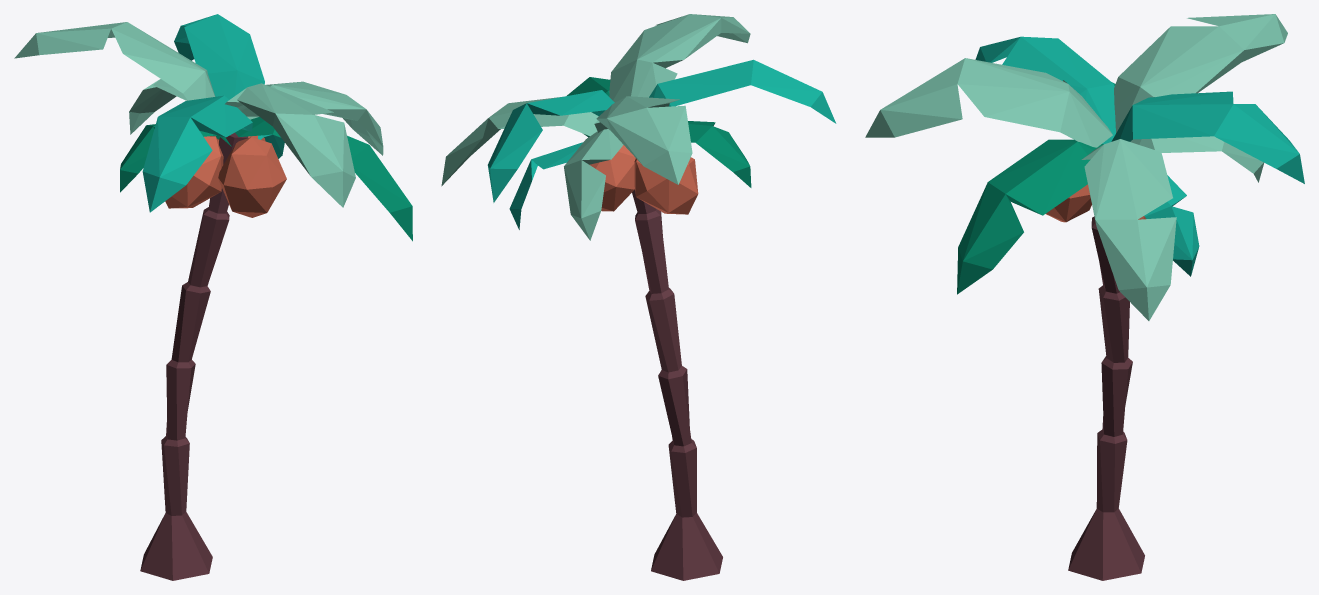
File: palmTreeA.FBX
3 views of the same model, side by side, from view 1: azimuth 30°, elevation 25°; view 2: azimuth 150°, elevation 25°; view 3: azimuth 270°, elevation 25° (orthographic). The views are drawn at different scales.
Parts seen in each view (by area): view 1: palmTreeA; view 2: palmTreeA; view 3: palmTreeA.
Part boxes in pixels (<box>): palmTreeA: <box>14,14,412,580</box>; palmTreeA: <box>441,14,836,580</box>; palmTreeA: <box>865,14,1304,580</box>.
Size of the model in its own units: 0.6787 by 1.03 by 0.7739.
